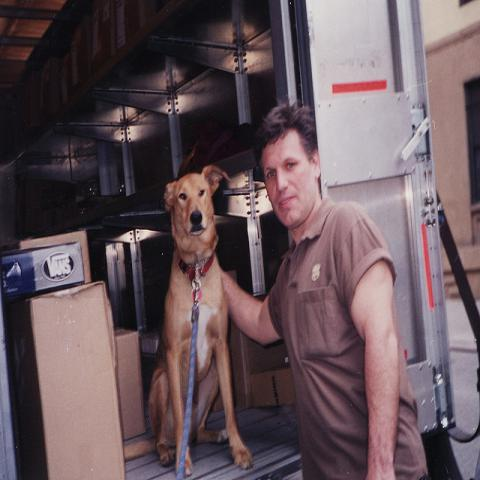truck: (0, 0, 460, 475)
